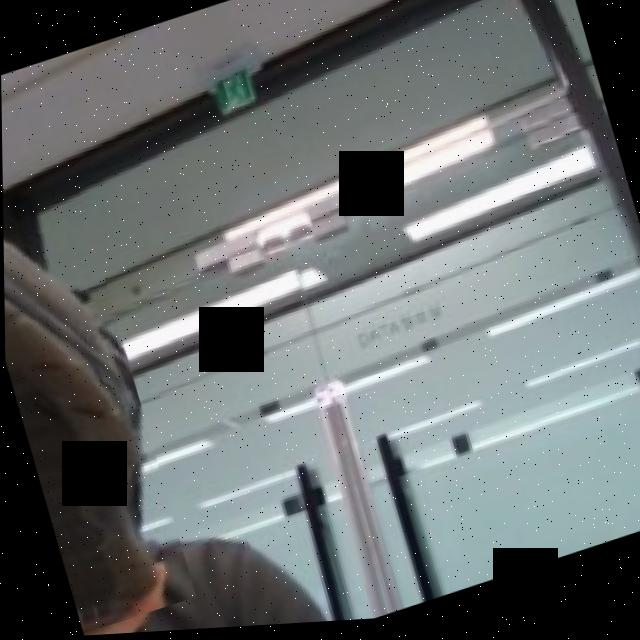shoe: (2, 173, 194, 637)
